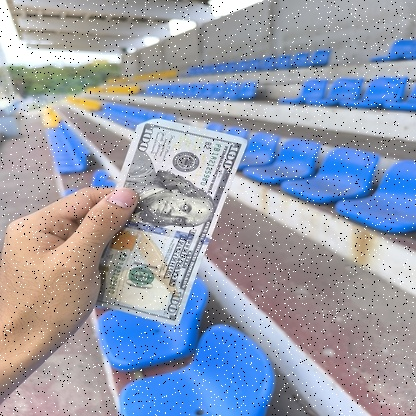one_hundred-front: (69, 119, 254, 329)
